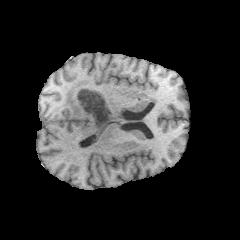glioma: (66, 79, 124, 140)
